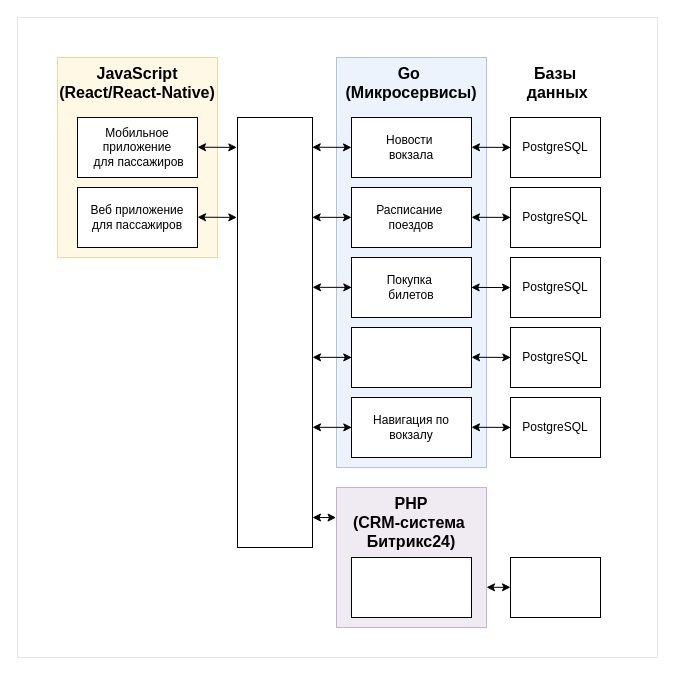
Image size: 675x675. Some labels were removed from this diagram. The shapes that lost their labels are listed below. From the top down, each one's centre as x and y in pixels, then its label:
At [274,332]: "API-шлюз".
At [411,357]: "Регистрация пользователей".
At [411,587]: "Службы доставки еды и услуги на вокзале".
At [555,587]: "MySQL".
